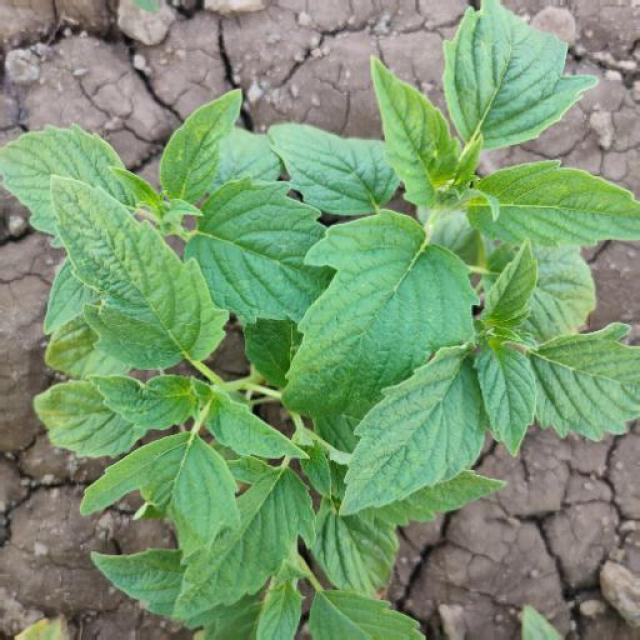crop: (48, 56, 616, 640)
